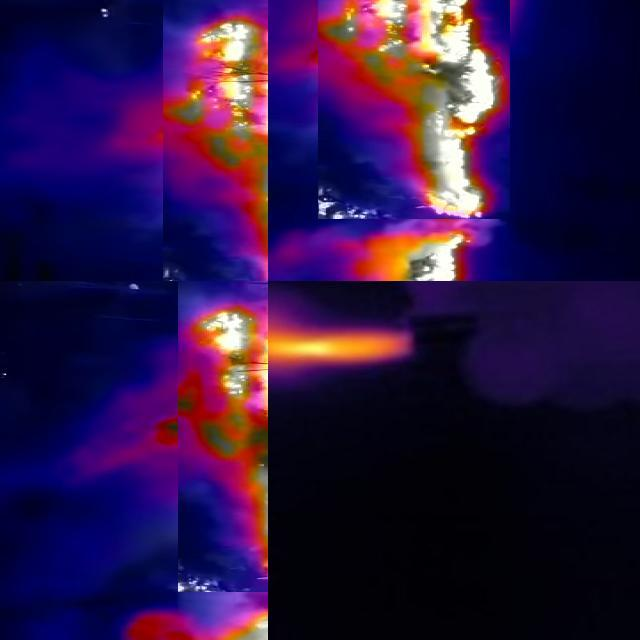fire: (319, 1, 511, 219), (164, 1, 269, 282), (179, 282, 269, 592), (351, 227, 481, 282), (269, 319, 417, 366), (175, 602, 269, 640)
